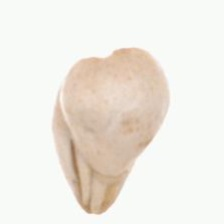L1: (70, 144, 123, 215)
L2: (51, 46, 170, 216)
